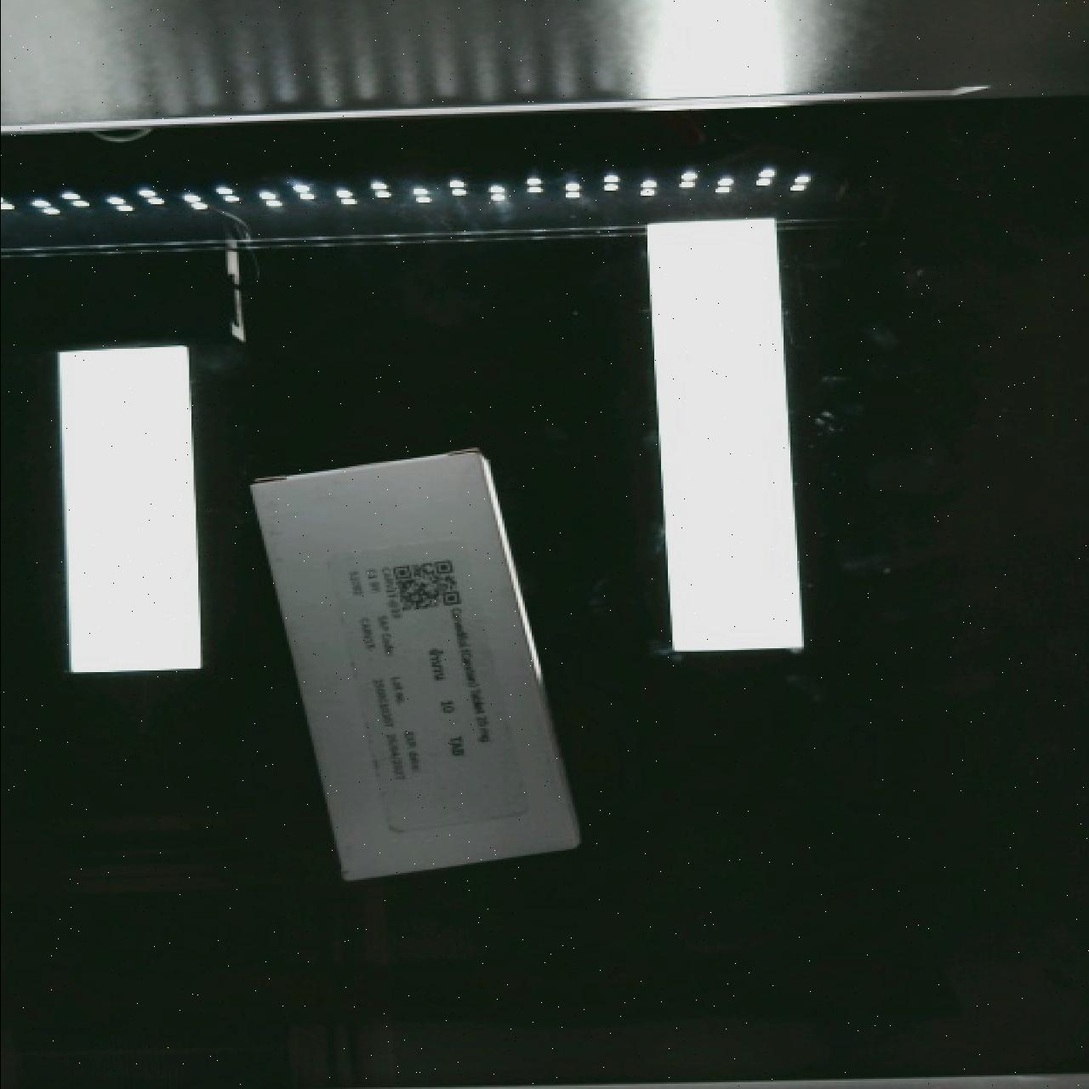qr_code: (378, 550, 472, 623)
